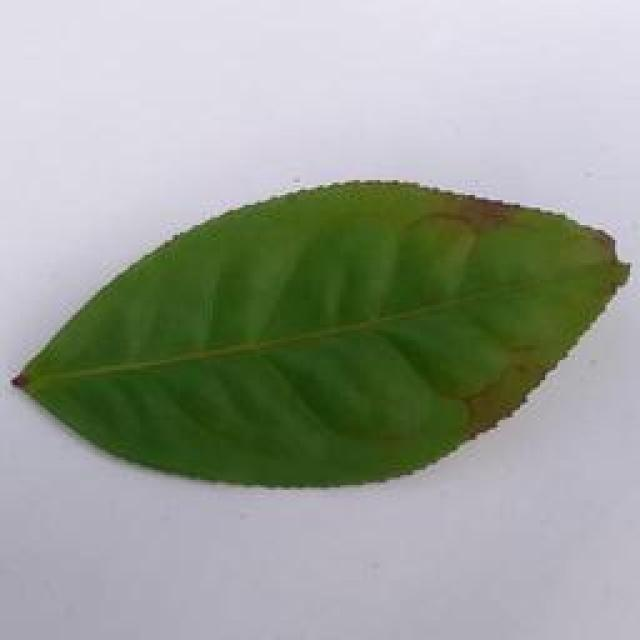Red Leaf Spot: (2, 165, 640, 497)
